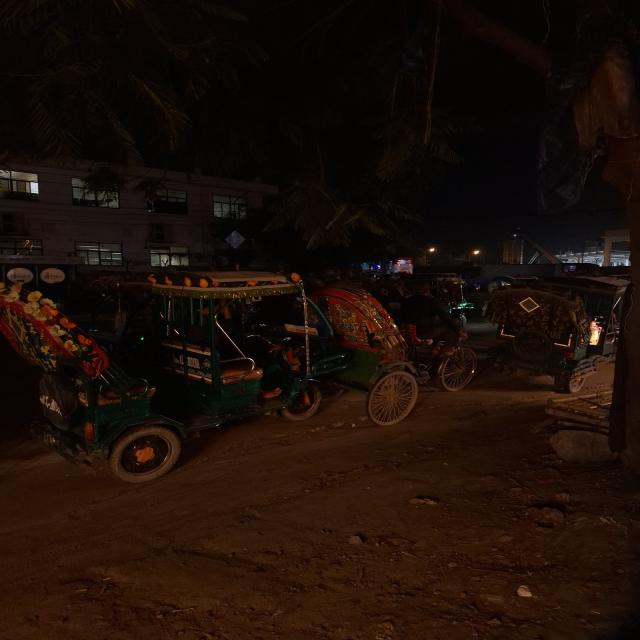rickshaw: (1, 273, 281, 487), (263, 271, 490, 429), (489, 274, 621, 399)
